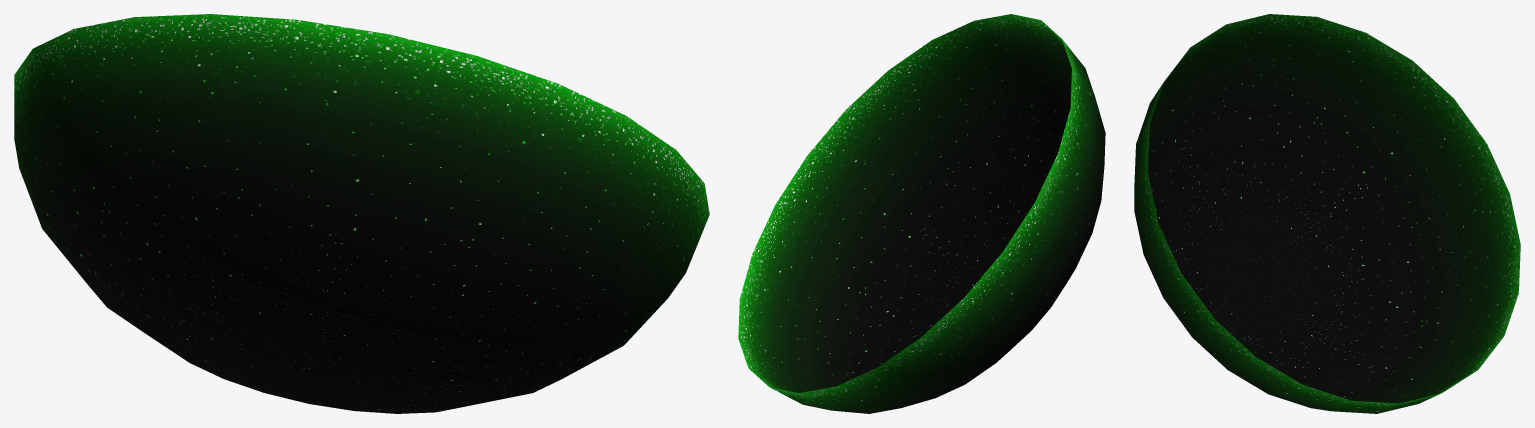
File: sky_01 #575428.fbx
The picture shows the model from 3 angles, left to right: view 1: azimuth 30°, elevation 25°; view 2: azimuth 150°, elevation 25°; view 3: azimuth 270°, elevation 25°; orthographic projection. The views are drawn at different scales.
Visible parts, largest first — view 1: sky_01; view 2: sky_01; view 3: sky_01.
Part boxes in pixels (box(x1,y1,x2,y2)): sky_01: box(14, 14, 709, 413); sky_01: box(738, 14, 1105, 413); sky_01: box(1134, 14, 1520, 413).
Size of the model in its own units: 1883 by 1655 by 1883.
